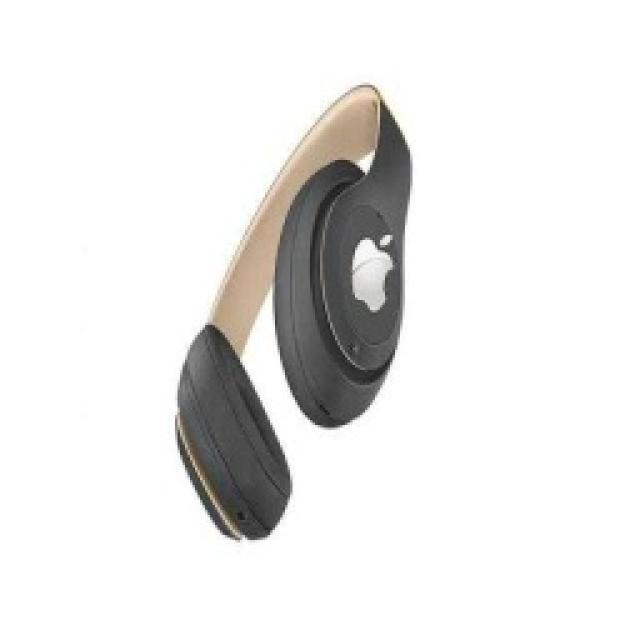headphones: (172, 80, 412, 540)
